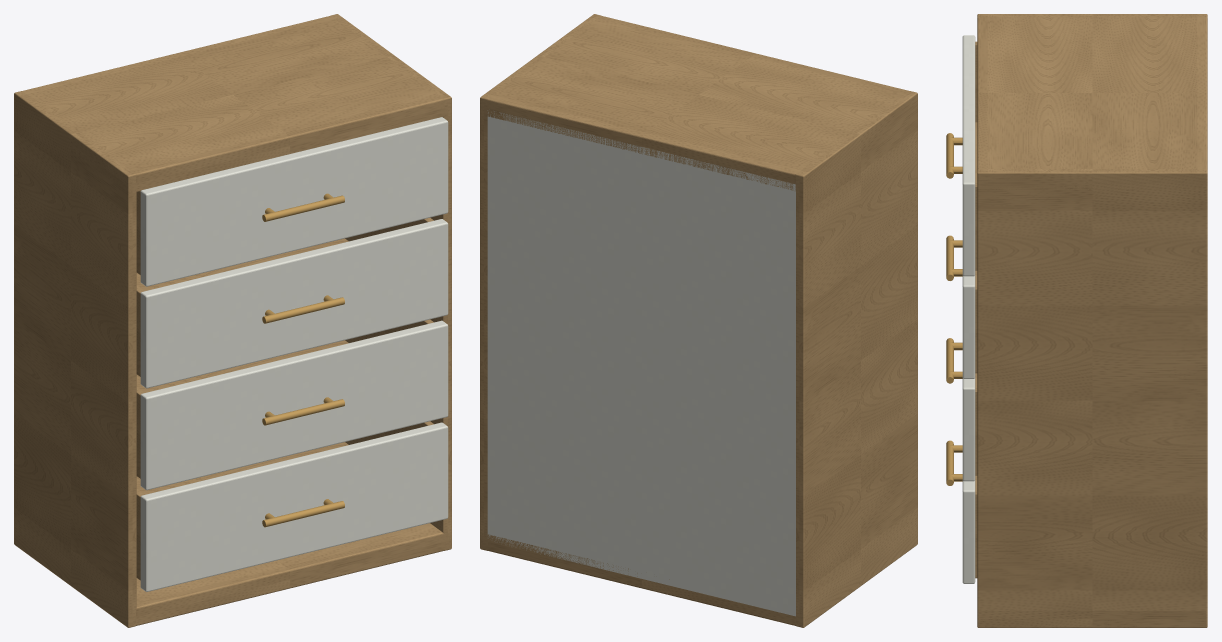
The picture shows the model from 3 angles, left to right: view 1: azimuth 30°, elevation 25°; view 2: azimuth 150°, elevation 25°; view 3: azimuth 270°, elevation 25°; orthographic projection.
Parts seen in each view (by area): view 1: Cabinet side, Cabinet top bottom.001, Drawer front.003, Drawer front.001, Drawer front.002, Drawer front, Cabinet top bottom, Cabinet side.001, Drawer box bottom.001, Drawer box bottom, Drawer box bottom.002, Cabinet handle.002 (+3 smaller); view 2: Cabinet back, Cabinet side, Cabinet top bottom.001, Cabinet side.001, Cabinet top bottom; view 3: Cabinet side.001, Cabinet top bottom.001, Cabinet top bottom, Drawer front.003, Drawer front.001, Drawer front, Drawer front.002, Cabinet side.
Part boxes in pixels (x1,y1,x2,y2): Cabinet side: (14, 91, 136, 627); Cabinet top bottom.001: (22, 16, 448, 192); Drawer front.003: (140, 117, 448, 286); Drawer front.001: (140, 320, 448, 490); Drawer front.002: (140, 219, 448, 388); Drawer front: (140, 422, 448, 591); Cabinet top bottom: (136, 523, 450, 625); Cabinet side.001: (330, 14, 451, 550); Drawer box bottom.001: (136, 340, 348, 478); Drawer box bottom: (136, 442, 348, 580); Drawer box bottom.002: (136, 238, 348, 376); Cabinet handle.002: (262, 297, 344, 323); Cabinet back: (487, 110, 795, 616); Cabinet side: (795, 91, 917, 627); Cabinet top bottom.001: (481, 16, 915, 191); Cabinet side.001: (480, 14, 601, 550); Cabinet top bottom: (481, 533, 795, 625); Cabinet side.001: (977, 169, 1207, 627); Cabinet top bottom.001: (977, 17, 1207, 189); Cabinet top bottom: (979, 611, 1205, 626); Drawer front.003: (962, 35, 975, 276); Drawer front.001: (962, 377, 975, 481); Drawer front: (962, 480, 975, 583); Drawer front.002: (962, 275, 975, 378); Cabinet side: (977, 14, 1207, 18).
Size of the model in its own units: 0.9 by 1.2 by 0.624.
Materials: 4 (4 with a texture image).
